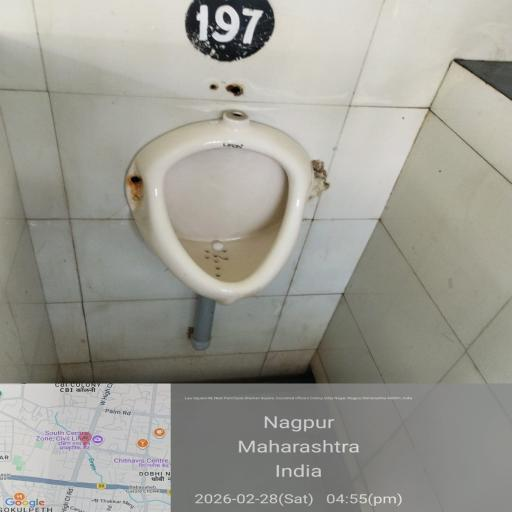partial_dirty_floor: (311, 86, 511, 376), (0, 77, 157, 384), (149, 295, 325, 383)
partial_dirty_urinal: (132, 124, 311, 292)
